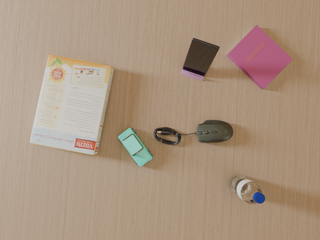book: (227, 25, 293, 89)
bottle: (229, 175, 265, 205)
box: (30, 55, 114, 155)
mouse: (194, 120, 233, 143)
phone: (183, 38, 219, 76)
toy_car: (118, 128, 152, 166)
